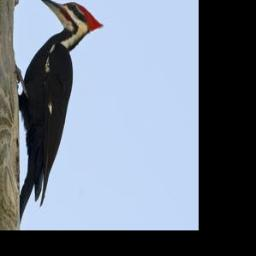Woodpecker: (16, 0, 106, 206)
